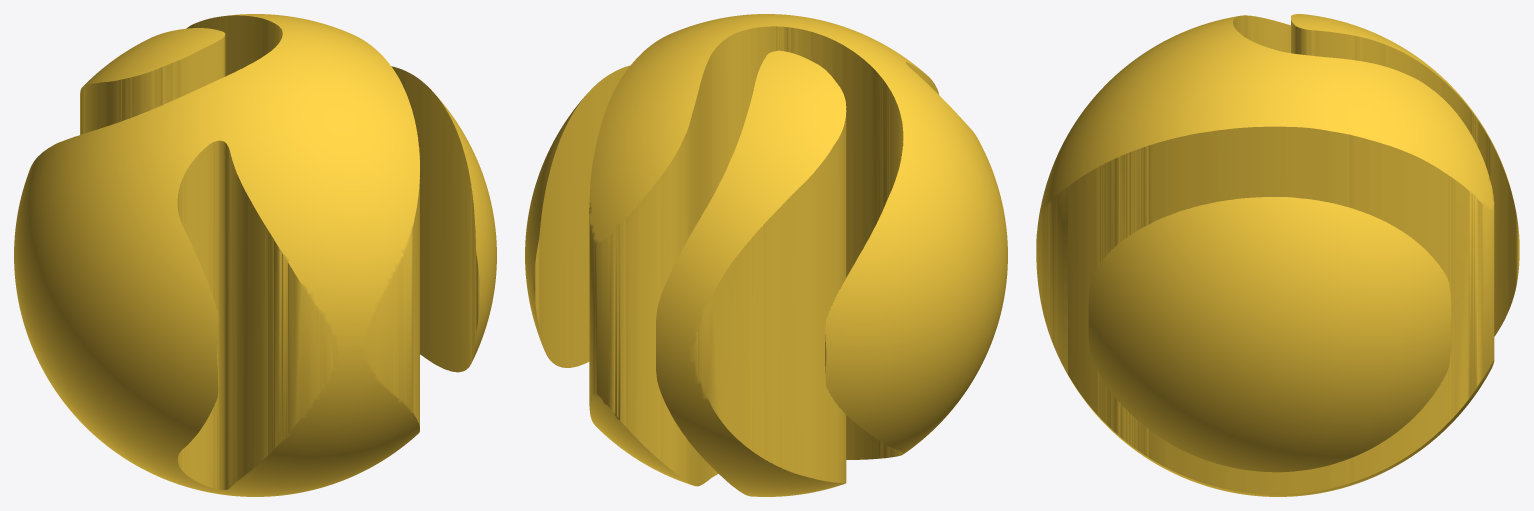
File: sinhala_kw_globe_solid.glb
3 views of the same model, side by side, from view 1: azimuth 30°, elevation 25°; view 2: azimuth 150°, elevation 25°; view 3: azimuth 270°, elevation 25° (orthographic).
Visible parts, largest first — view 1: SinhalaKW_Globe_Solid; view 2: SinhalaKW_Globe_Solid; view 3: SinhalaKW_Globe_Solid.
Boxes of the visible parts, box(x1,y1,x2,y2) form: SinhalaKW_Globe_Solid: box(14, 14, 496, 496); SinhalaKW_Globe_Solid: box(525, 14, 1007, 496); SinhalaKW_Globe_Solid: box(1036, 14, 1519, 496).
Bounding box in the file's own units: 2 × 1.99 × 2.
